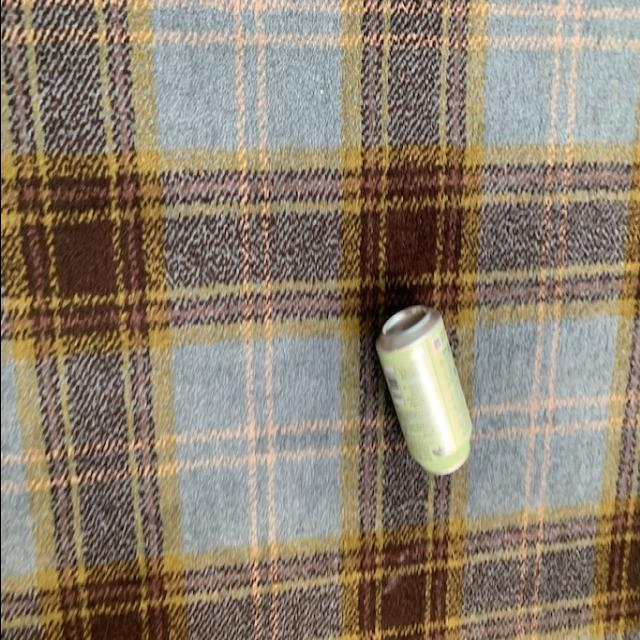litter: (364, 308, 470, 482)
